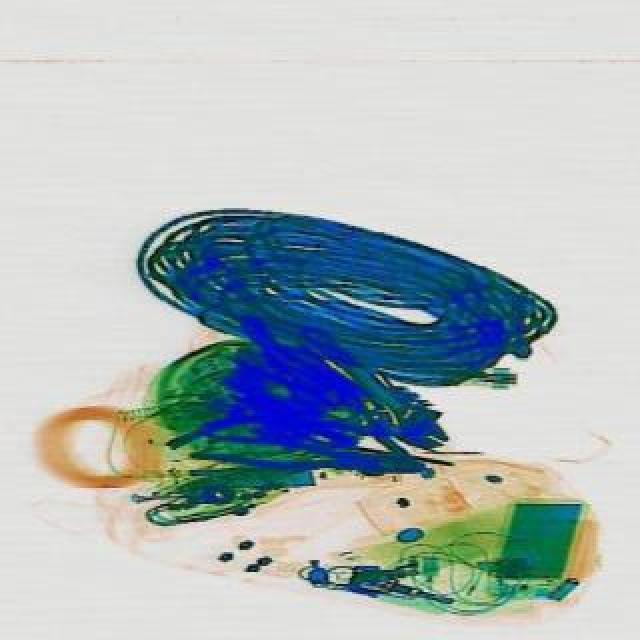scissors: (292, 308, 466, 464)
wrench: (192, 428, 430, 484)
